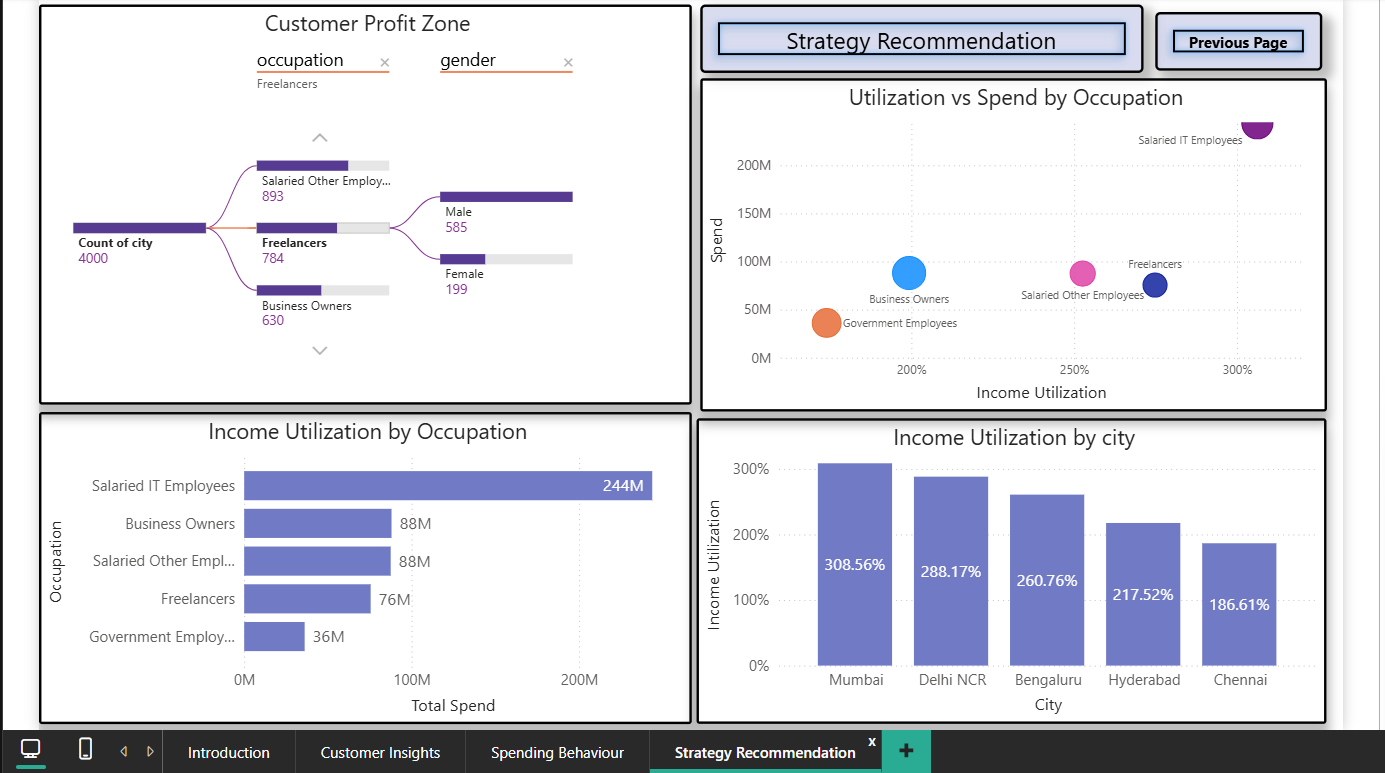

The page's visual inventory and layout, read from the dashboard file:
{"tool":"powerbi","page":{"name":"Strategy Recommendation","canvas":[1280,720],"ordinal":3},"visuals":[{"type":"actionButton","box":[649.1,7.4,435.6,67.5],"z":0},{"type":"actionButton","box":[1096.2,15,163.8,57.5],"z":1000},{"type":"clusteredBarChart","title":"Income Utilization by Occupation","fields":{"Y":["Customer Spending Details.Total Spend"],"Category":["Customer Demographics.occupation"]},"box":[0,407.4,640.5,306.8],"z":2000},{"type":"decompositionTreeVisual","title":"Customer Profit Zone","fields":{"ExplainBy":["Customer Demographics.occupation","Customer Demographics.gender"],"Analyze":["CountNonNull(Customer Demographics.city)"]},"box":[0,7.4,640.5,392.6],"z":3000},{"type":"clusteredColumnChart","fields":{"Y":["Customer Demographics.Income Utilization"],"Category":["Customer Demographics.city"]},"box":[645,413.8,618.8,300],"z":4000},{"type":"scatterChart","title":"Utilization vs Spend by Occupation","fields":{"X":["Customer Demographics.Income Utilization"],"Y":["Customer Spending Details.Total Spend"],"Size":["Customer Demographics.Avg Income"],"Series":["Customer Demographics.occupation"]},"box":[648.8,80,615,327.5],"z":5000}]}

Visuals, with their boxes in screenshot pixels (x1, y1, x2, y2):
actionButton: pyautogui.locateOnScreen(698, 0, 1142, 69)
actionButton: pyautogui.locateOnScreen(1154, 8, 1321, 67)
"Income Utilization by Occupation" clusteredBarChart: pyautogui.locateOnScreen(36, 408, 689, 721)
"Customer Profit Zone" decompositionTreeVisual: pyautogui.locateOnScreen(36, 0, 689, 401)
clusteredColumnChart - Customer Demographics.Income Utilization x Customer Demographics.city: pyautogui.locateOnScreen(694, 415, 1325, 721)
"Utilization vs Spend by Occupation" scatterChart: pyautogui.locateOnScreen(698, 74, 1325, 408)
